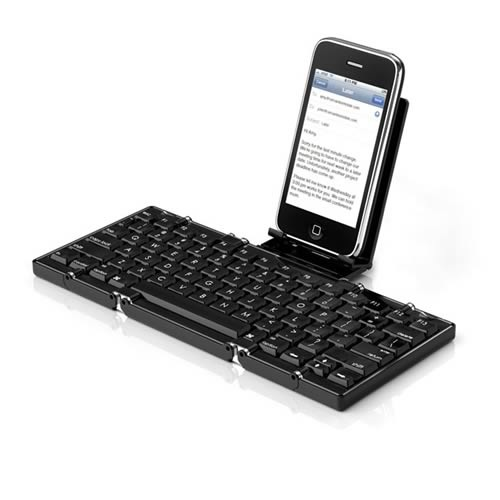Teclado: (32, 205, 457, 411)
